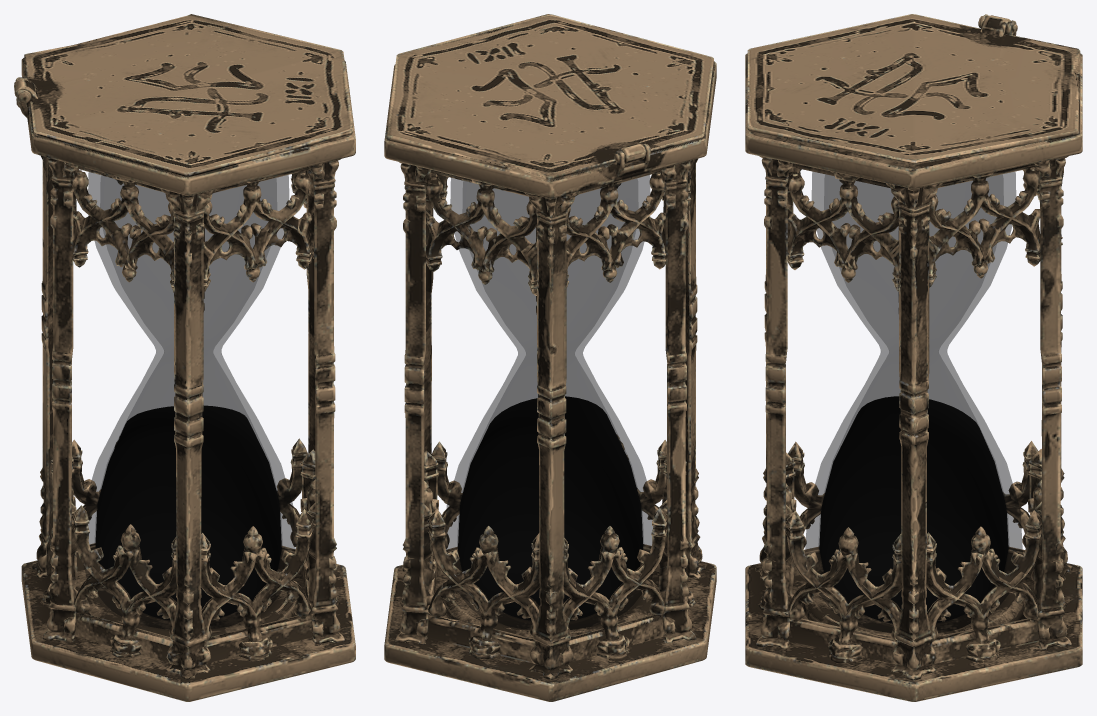
The model's file is hourglass.glb.
3 views of the same model, side by side, from view 1: azimuth 30°, elevation 25°; view 2: azimuth 150°, elevation 25°; view 3: azimuth 270°, elevation 25° (orthographic).
Parts seen in each view (by area): view 1: Object_4, Object_3, Object_2; view 2: Object_4, Object_3, Object_2; view 3: Object_4, Object_3, Object_2.
Boxes of the visible parts, <box> form: Object_4: <box>14,14,355,701</box>; Object_3: <box>84,172,295,629</box>; Object_2: <box>95,405,281,620</box>; Object_4: <box>384,14,716,701</box>; Object_3: <box>445,175,654,629</box>; Object_2: <box>458,396,643,620</box>; Object_4: <box>745,14,1082,701</box>; Object_3: <box>805,172,1022,632</box>; Object_2: <box>819,396,1008,623</box>.
Bounding box in the file's own units: 3.72 × 6.14 × 3.43.
Materials: 3 (1 with a texture image).
